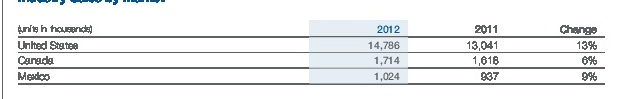table: (0, 0, 626, 99)
